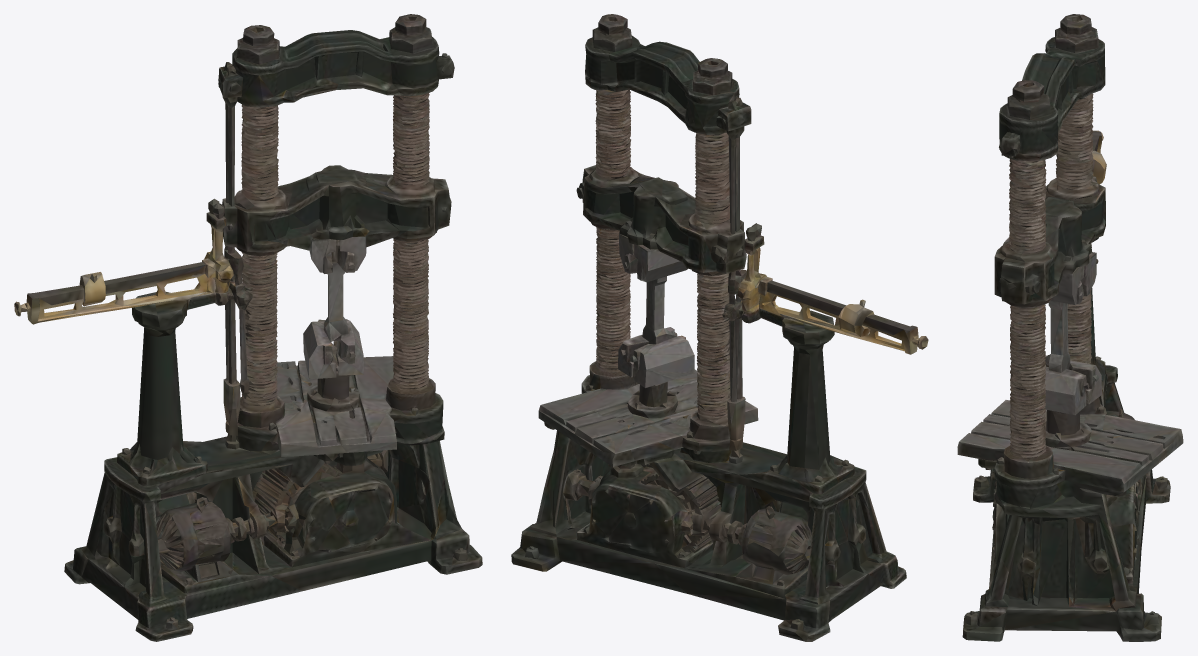
The model's file is machine.glb.
The picture shows the model from 3 angles, left to right: view 1: azimuth 30°, elevation 25°; view 2: azimuth 150°, elevation 25°; view 3: azimuth 270°, elevation 25°; orthographic projection. The views are drawn at different scales.
Visible parts, largest first — view 1: Mesh_0; view 2: Mesh_0; view 3: Mesh_0.
Boxes of the visible parts, x1,y1,x2,y2 form: Mesh_0: [14, 14, 482, 641]; Mesh_0: [511, 14, 928, 641]; Mesh_0: [957, 14, 1183, 641].
Bounding box in the file's own units: 1.5 × 1.9 × 0.7209.
Materials: 1 (1 with a texture image).
